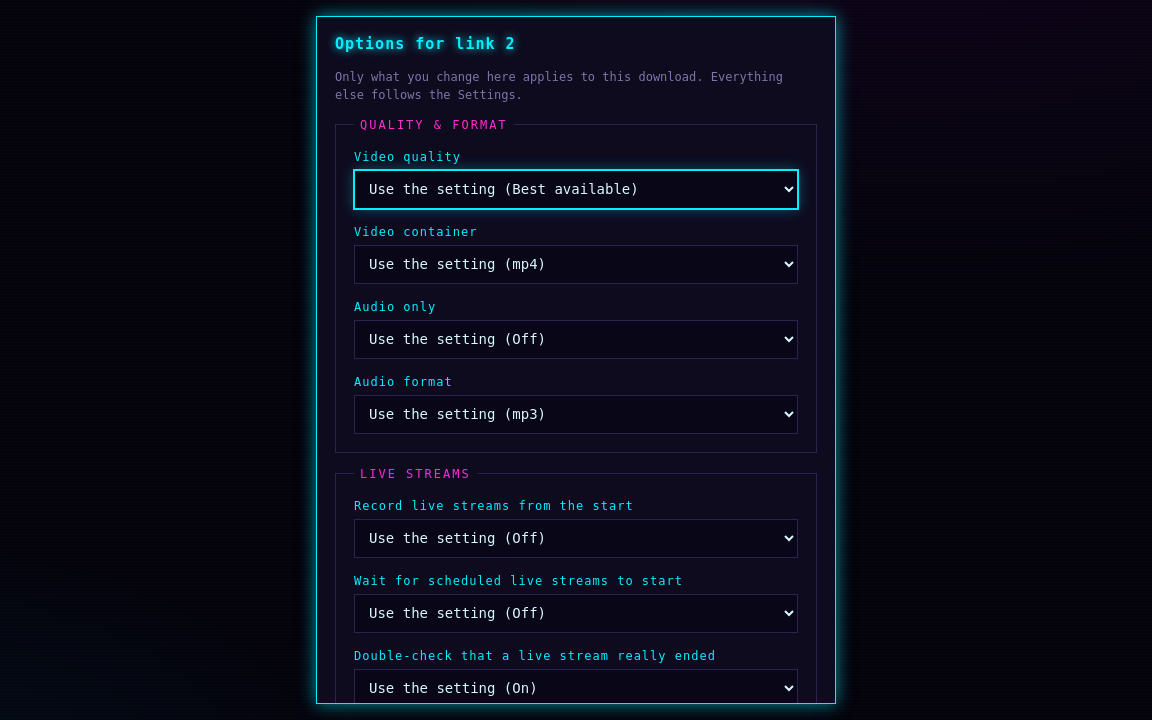
Test case: DownloadOptionsDialog seconds of the end check › is disabled when this download turns the check off
Select "Off" in the dropdown labelled "Double-check that a live stream really ended" at {"x": 576, "y": 688}, box 354,668 -> 798,708
(page scrolled)
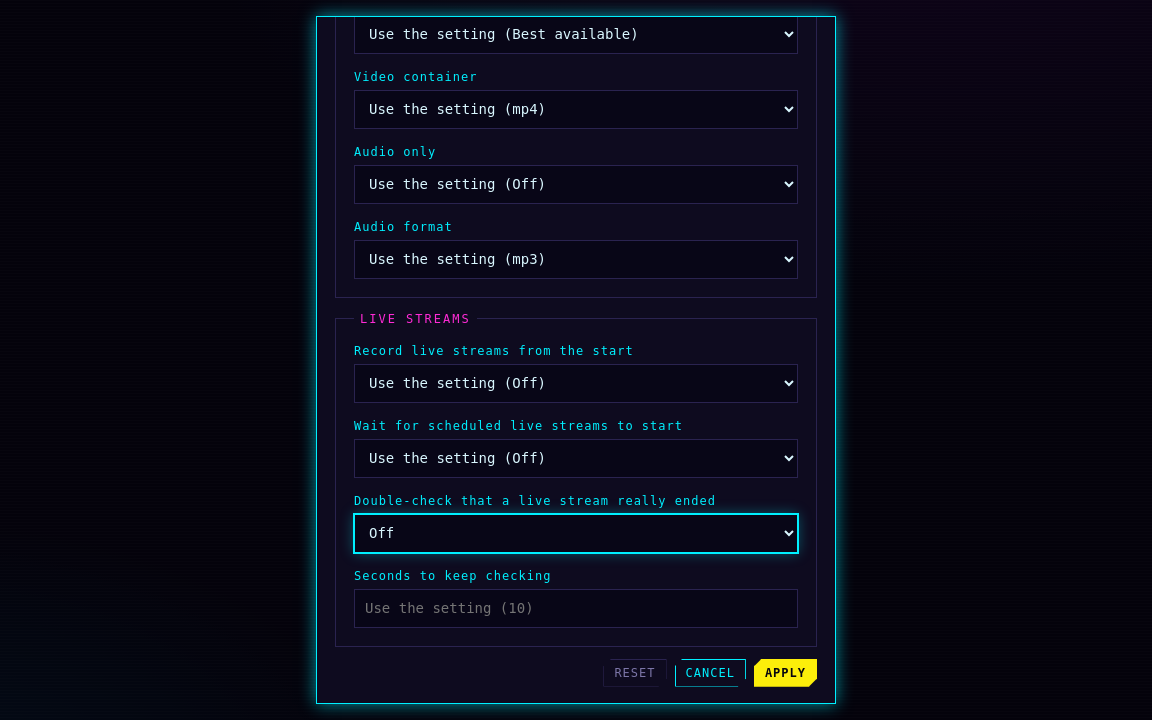
Result: the number field labelled "Seconds to keep checking" is disabled at 354,588 -> 798,628
